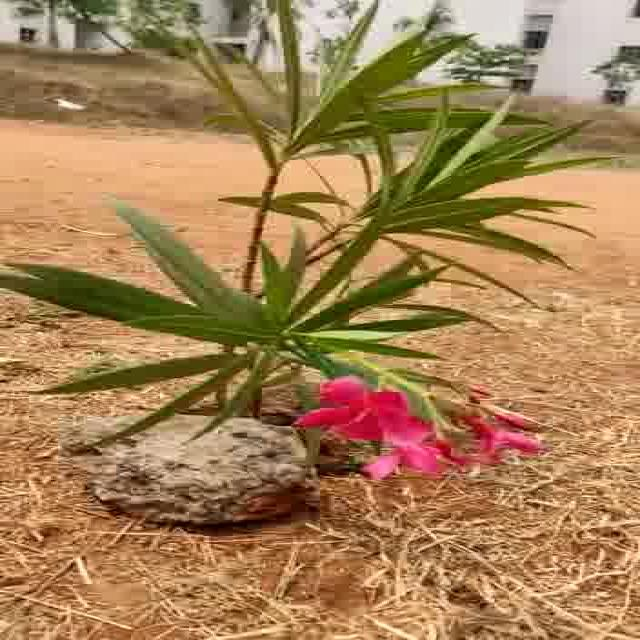Oleander: (81, 4, 559, 462)
